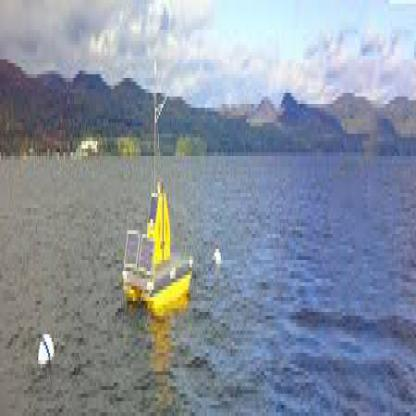buoy: (122, 44, 200, 330), (34, 323, 55, 372)
